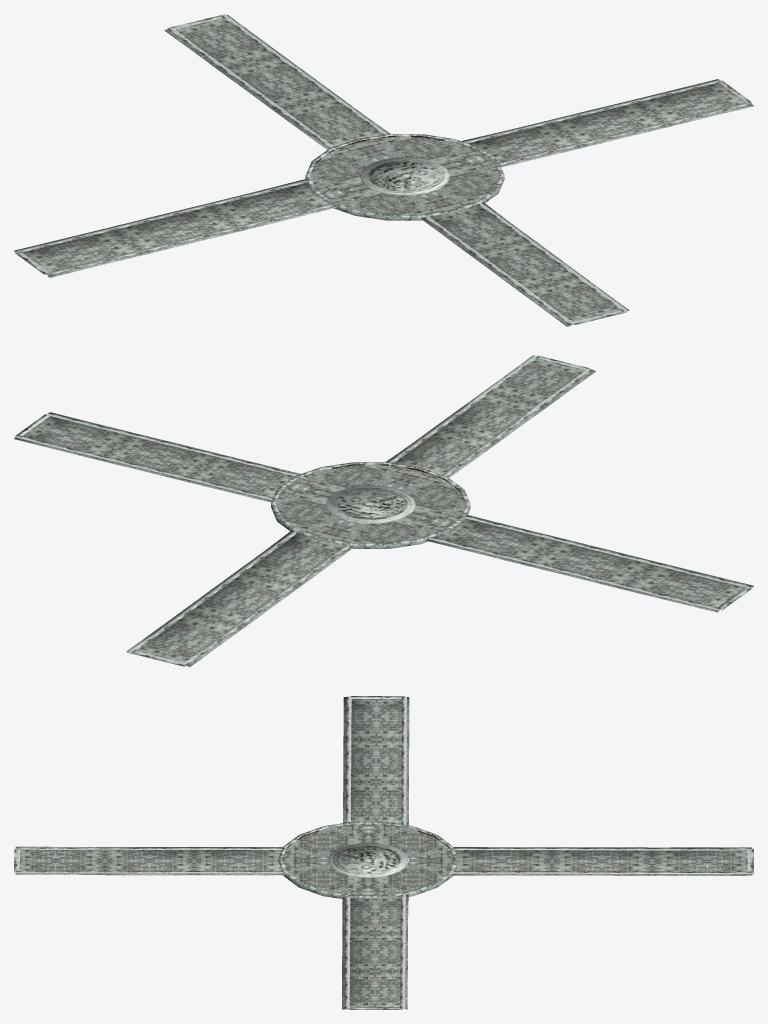
File: S_Build_Snowland228_A.FBX
3 renders of one model, top to bottom at view 1: azimuth 30°, elevation 25°; view 2: azimuth 150°, elevation 25°; view 3: azimuth 270°, elevation 25°, orthographic. The views are drawn at different scales.
Visible parts, largest first — view 1: S_Build_Snowland228_A; view 2: S_Build_Snowland228_A; view 3: S_Build_Snowland228_A.
Boxes of the visible parts, x1,y1,x2,y2 form: S_Build_Snowland228_A: (14,14,753,326); S_Build_Snowland228_A: (14,355,753,667); S_Build_Snowland228_A: (14,696,753,1009).
Bounding box in the file's own units: 3469 × 18.85 × 3453.
